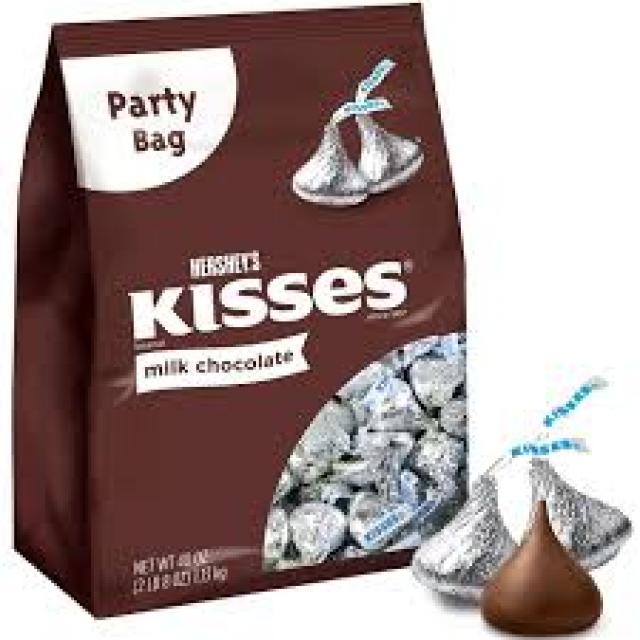kisses: (406, 469, 522, 606), (527, 444, 633, 579), (292, 115, 367, 215), (351, 98, 426, 196), (407, 428, 472, 495), (288, 499, 348, 564), (349, 430, 416, 486), (406, 353, 466, 415), (292, 432, 355, 491), (360, 374, 423, 430)
